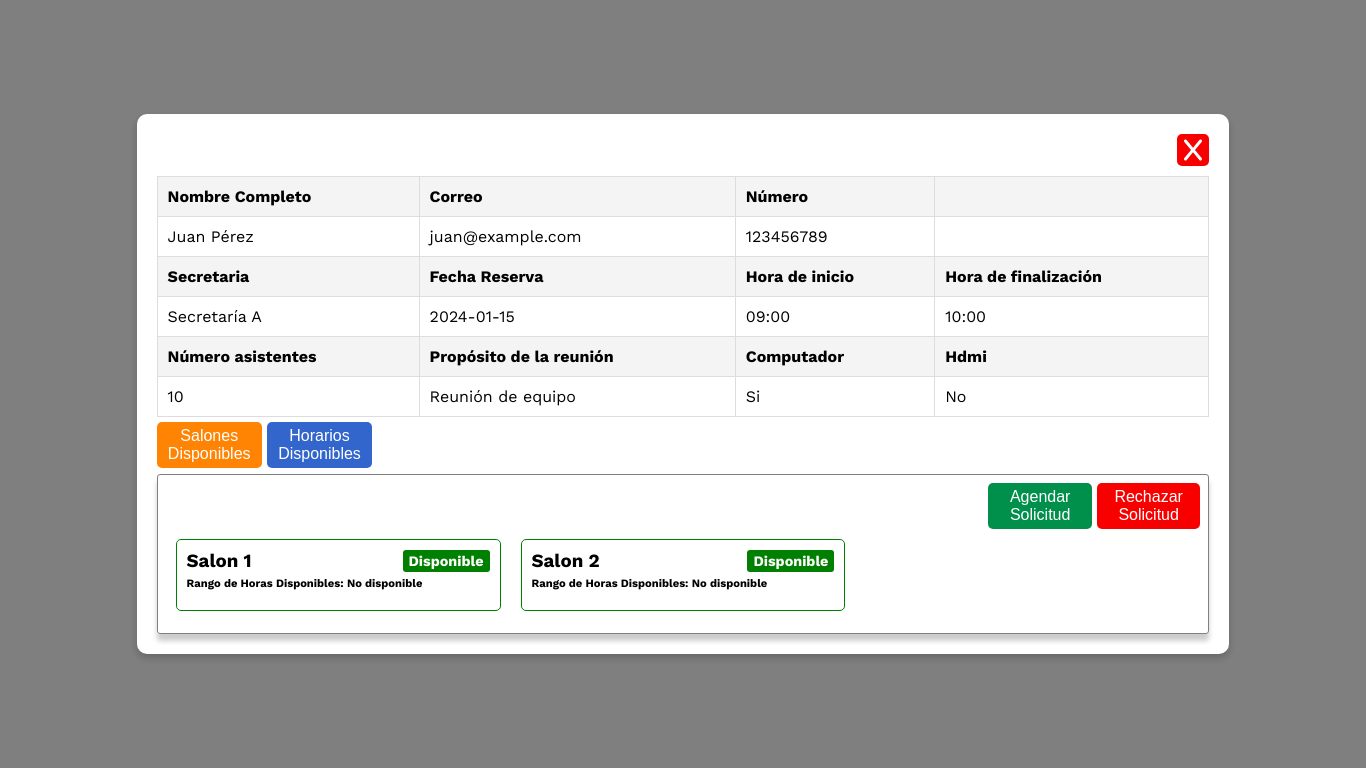
Test: RequestModal › should show time inputs when schedules view is active
This screenshot has width=1366, height=768.
What coordinates should you click on to do the following:
click the button "Horarios Disponibles"
I would click on:
 (320, 445)
Its box is [267,422,372,468].
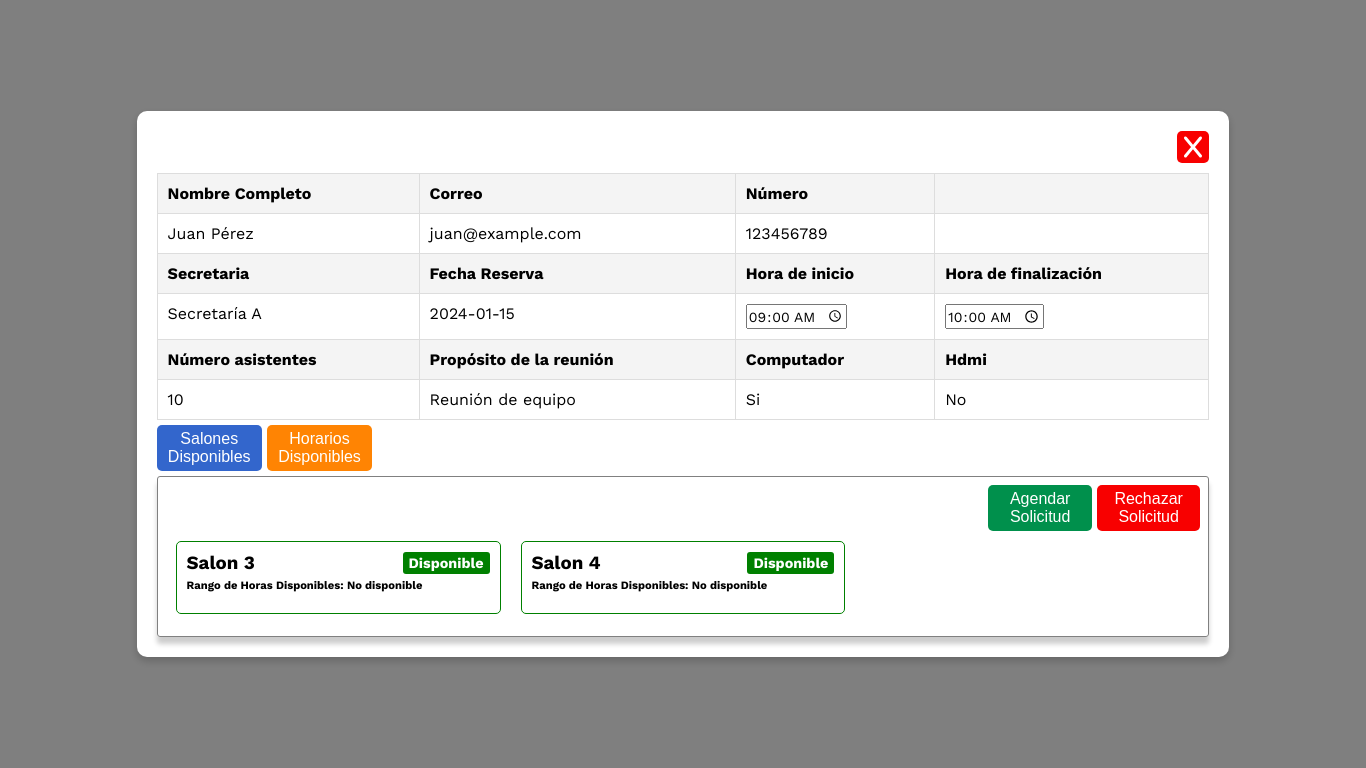
Expected: the 1st time field showing "09:00" is shown, [746,304,848,329]
